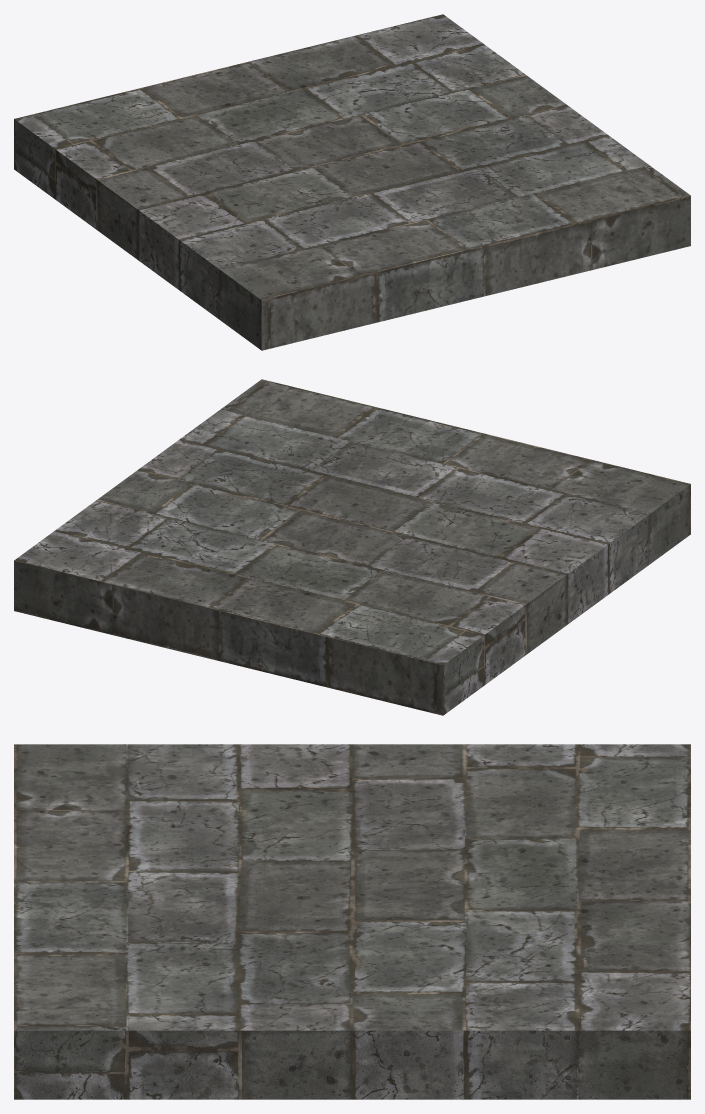
Rendered from SM_Floor_stone.fbx.
3 renders of one model, top to bottom at view 1: azimuth 30°, elevation 25°; view 2: azimuth 150°, elevation 25°; view 3: azimuth 270°, elevation 25°, orthographic. The views are drawn at different scales.
Parts seen in each view (by area): view 1: SM_Floor_stone; view 2: SM_Floor_stone; view 3: SM_Floor_stone.
Boxes of the visible parts, x1=… form: SM_Floor_stone: x1=14, y1=14, x2=690, y2=350; SM_Floor_stone: x1=14, y1=379, x2=690, y2=715; SM_Floor_stone: x1=14, y1=744, x2=690, y2=1099.
Bounding box in the file's own units: 300 × 33.7 × 300.
1 material, 1 textured.
